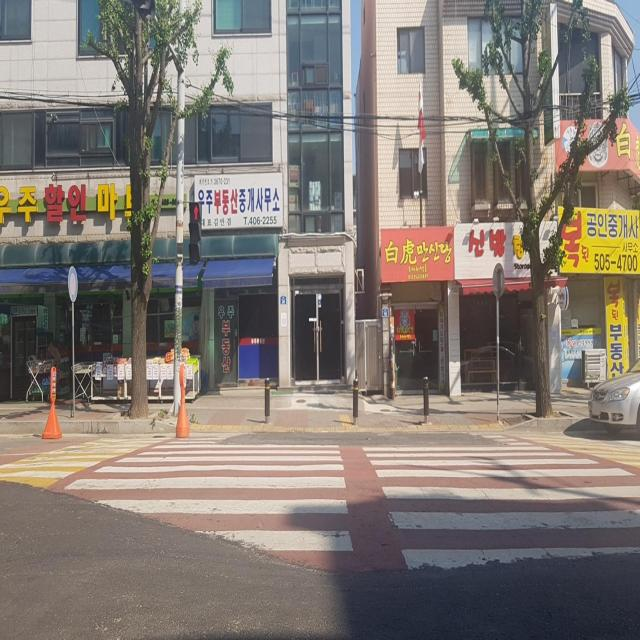빨간불: (188, 201, 202, 266)
횡단보도: (85, 435, 640, 560)
